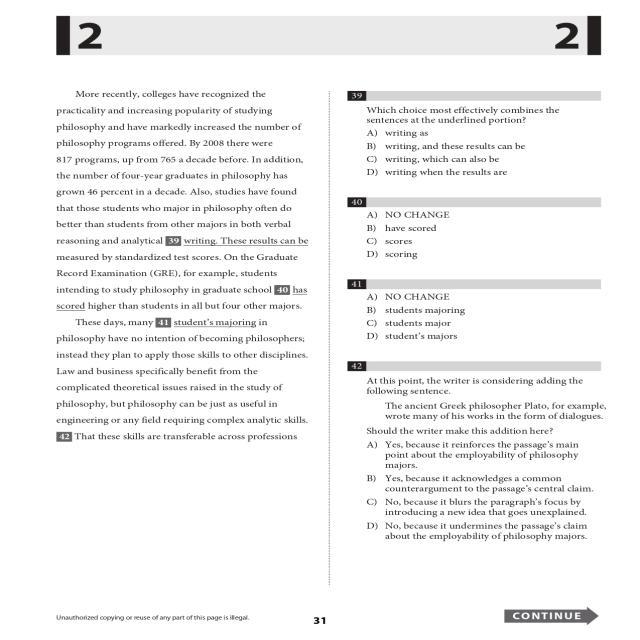Answer_Block: (335, 438, 618, 556), (336, 290, 616, 346), (337, 209, 616, 263), (336, 128, 616, 180)
Instruction: (50, 87, 318, 586)
Question_Answer_Block: (336, 358, 617, 557), (336, 88, 616, 180), (336, 194, 616, 264), (337, 278, 616, 348)
Question_Block: (336, 358, 617, 438), (336, 88, 616, 128), (336, 195, 616, 210), (336, 278, 616, 290)
Question_Paper_Area: (336, 87, 616, 583), (50, 87, 318, 586)
